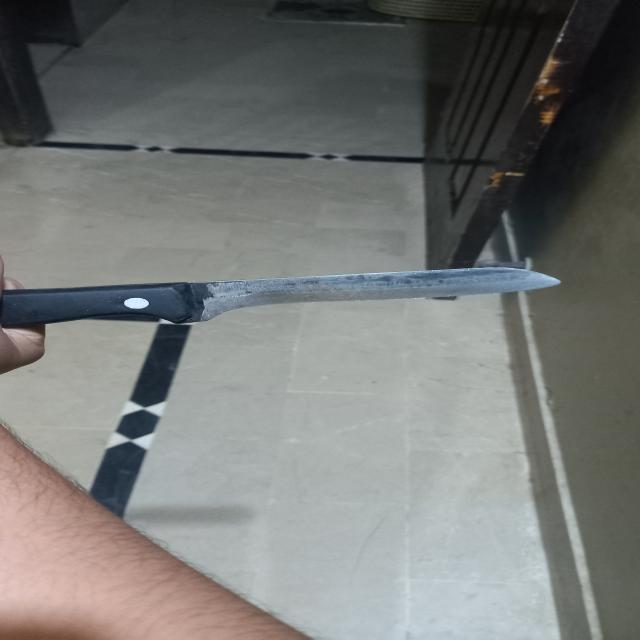Knife: (1, 261, 604, 331)
